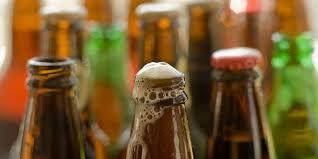Glass bottle: (0, 1, 318, 159)
